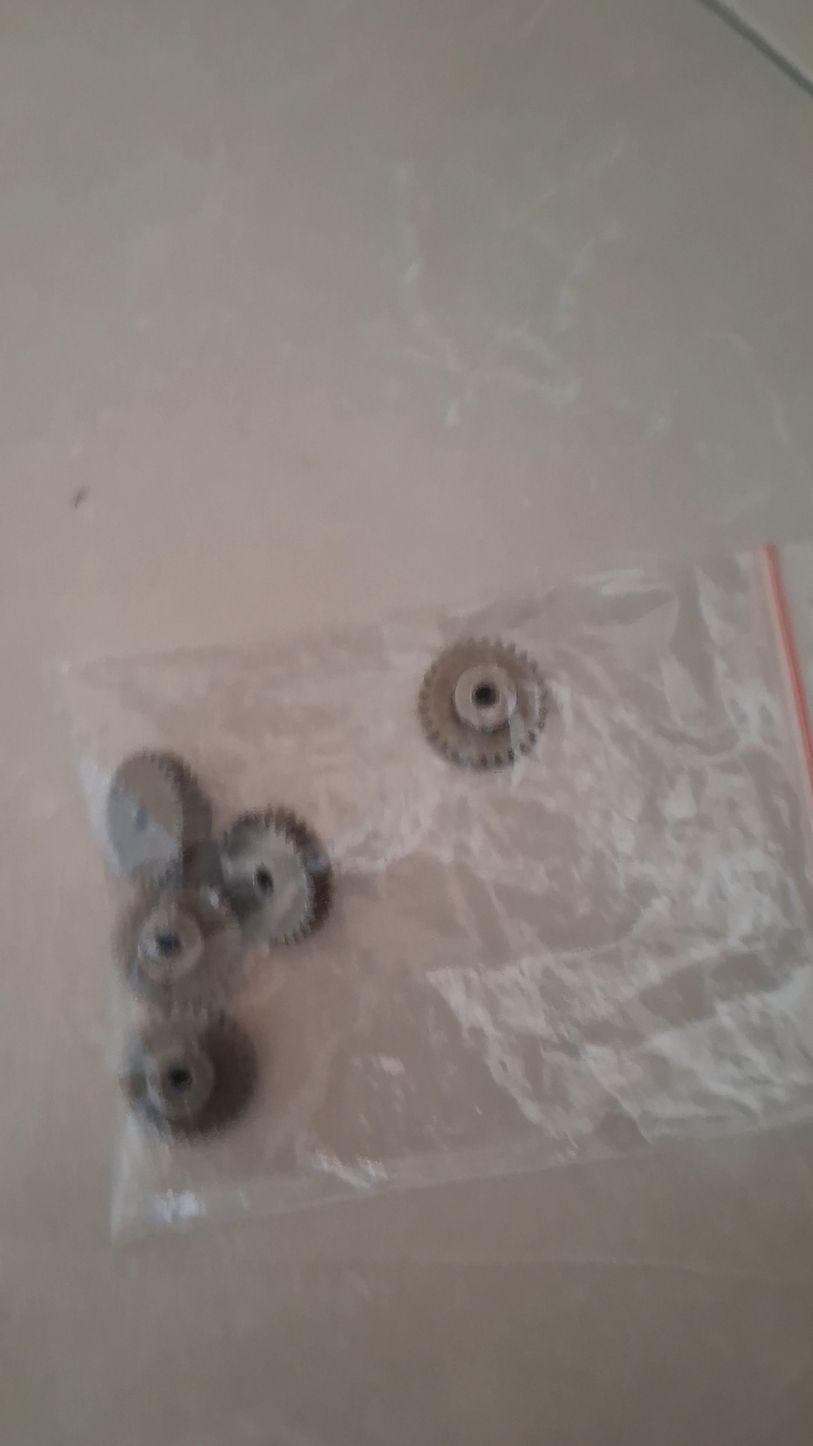spur gear: (114, 887, 244, 1020), (419, 639, 545, 769), (121, 1019, 257, 1137), (217, 809, 330, 945), (107, 752, 210, 884)
